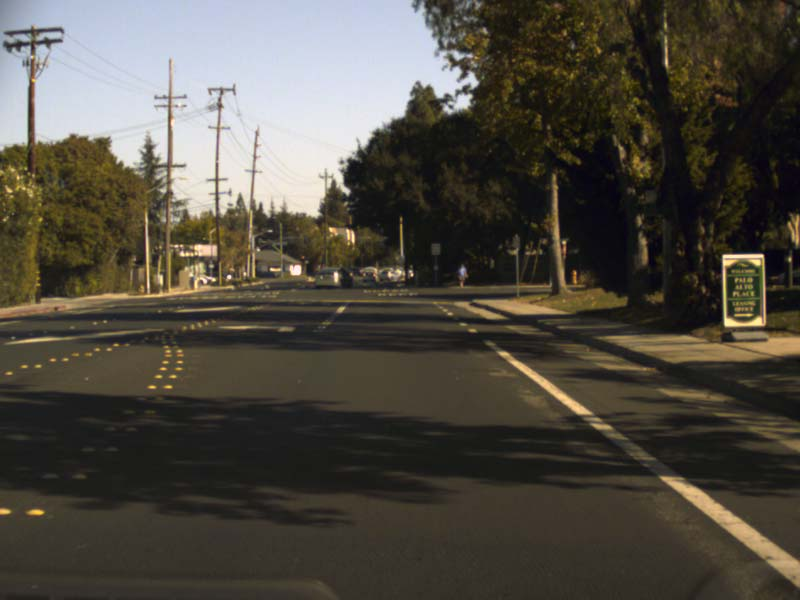Yellow: (300, 251, 305, 261)
